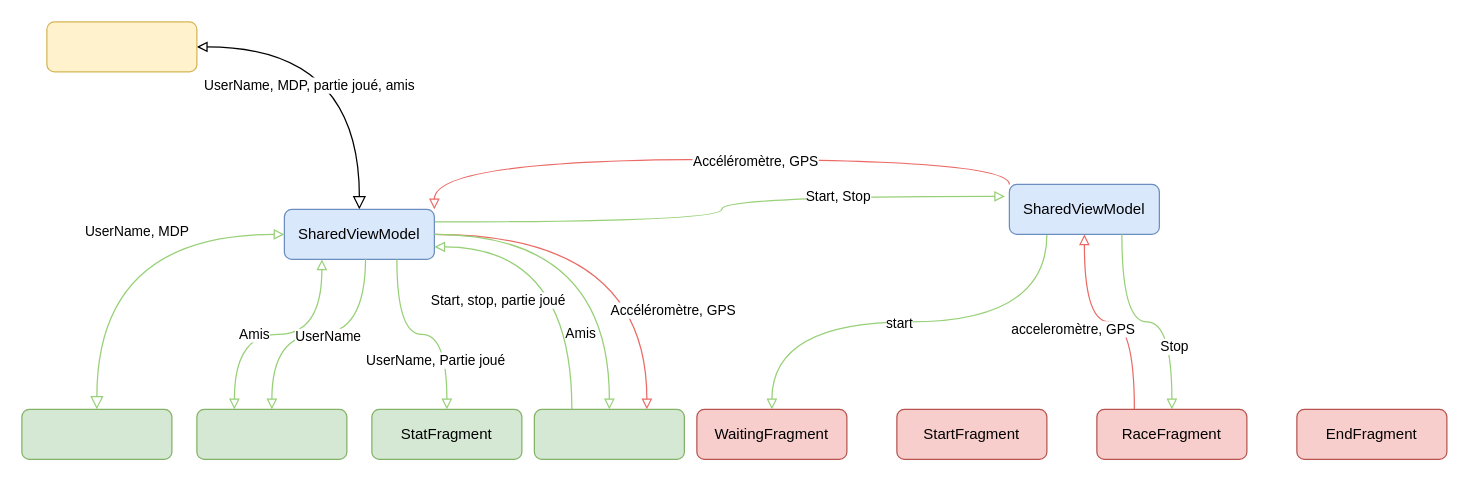
The diagram is 1469 pixels wide and 481 high, and some of its shapes have lost their labels. The centre of each missing label's shape, as x and y in pixels:
FireBase: (121,46)
LoginFragment: (96,433)
LoungeFragment: (608,433)
MySpaceFragment: (271,433)
